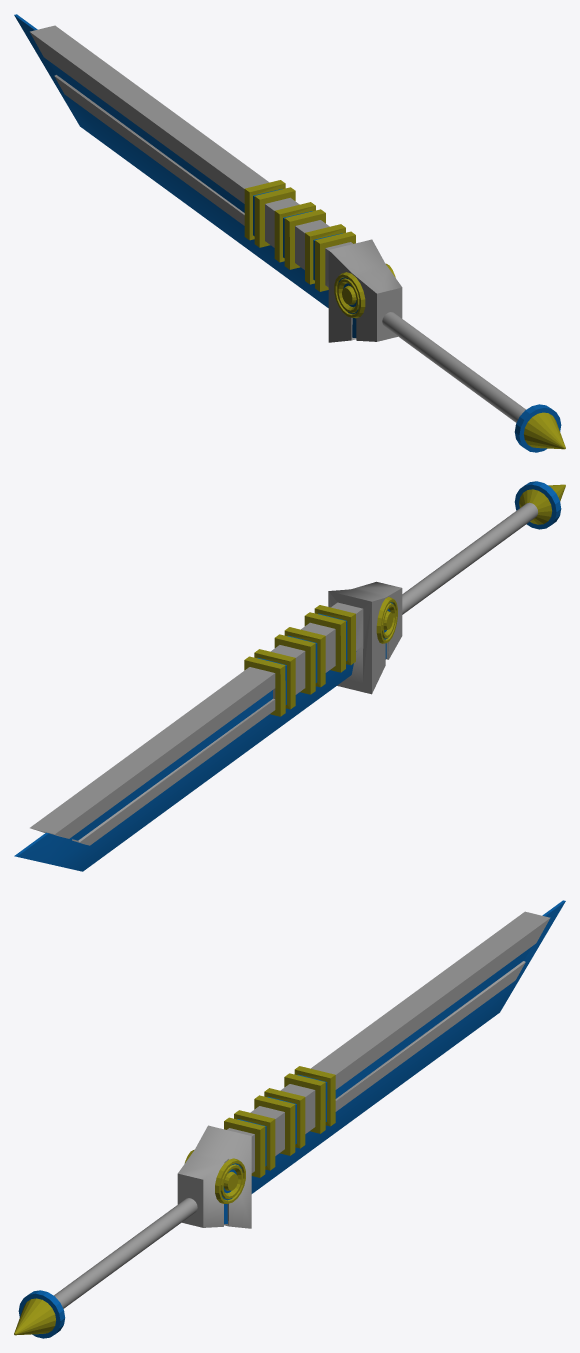
Rendered from Sword.FBX.
3 renders of one model, top to bottom at view 1: azimuth 30°, elevation 25°; view 2: azimuth 150°, elevation 25°; view 3: azimuth 330°, elevation 25°, orthographic.
Visible parts, largest first — view 1: Cylinder004, Box001, Cylinder001; view 2: Cylinder004, Box001, Cylinder001; view 3: Cylinder004, Box001, Cylinder001.
Boxes of the visible parts, box(x1,y1,x2,y2) form: Cylinder004: box(30, 25, 402, 342); Box001: box(14, 14, 328, 307); Cylinder001: box(382, 312, 565, 452); Cylinder004: box(30, 581, 402, 845); Box001: box(14, 651, 356, 871); Cylinder001: box(402, 481, 565, 614); Cylinder004: box(177, 911, 550, 1228); Box001: box(251, 900, 565, 1193); Cylinder001: box(14, 1198, 197, 1338).
Bounding box in the file's own units: 16.58 × 31.26 × 336.
